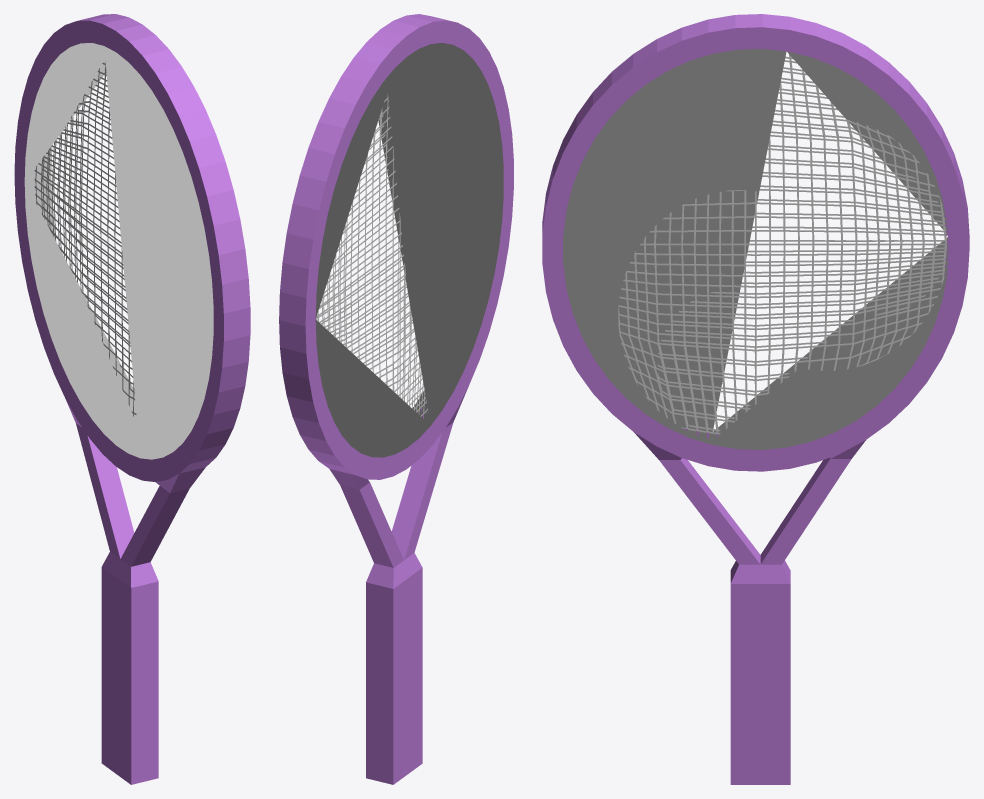
Rendered from tennis racket.fbx.
3 renders of one model, left to right at view 1: azimuth 30°, elevation 25°; view 2: azimuth 150°, elevation 25°; view 3: azimuth 270°, elevation 25°, orthographic. The views are drawn at different scales.
Visible parts, largest first — view 1: Cylinder; view 2: Cylinder; view 3: Cylinder.
Boxes of the visible parts, left/top/right/bottom form: Cylinder: left=14, top=14, right=250, bottom=784; Cylinder: left=279, top=14, right=513, bottom=784; Cylinder: left=542, top=14, right=969, bottom=784.
Size of the model in its own units: 15.2 by 391 by 200.
